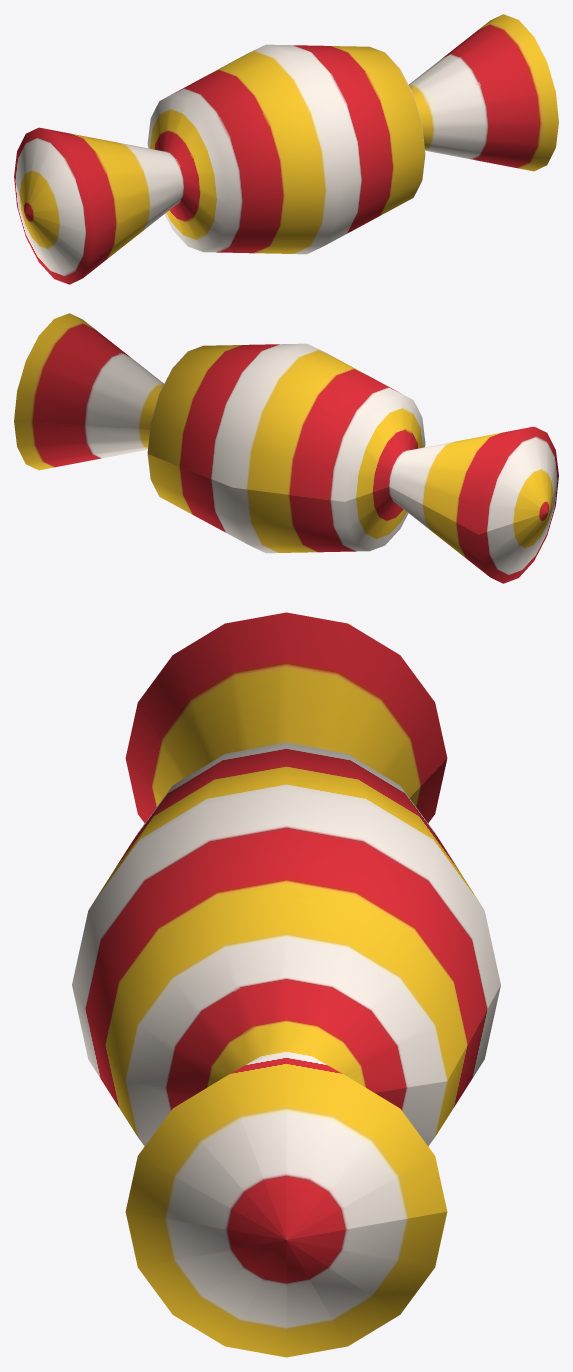
Rendered from dulce.obj.
3 views of the same model, one above another, from view 1: azimuth 30°, elevation 25°; view 2: azimuth 150°, elevation 25°; view 3: azimuth 270°, elevation 25° (orthographic). The views are drawn at different scales.
Visible parts, largest first — view 1: dulce; view 2: dulce; view 3: dulce.
Boxes of the visible parts, <box> form: dulce: <box>14,14,558,284</box>; dulce: <box>14,313,558,583</box>; dulce: <box>72,612,500,1357</box>.
Size of the model in its own units: 0.09 by 0.032 by 0.032.
